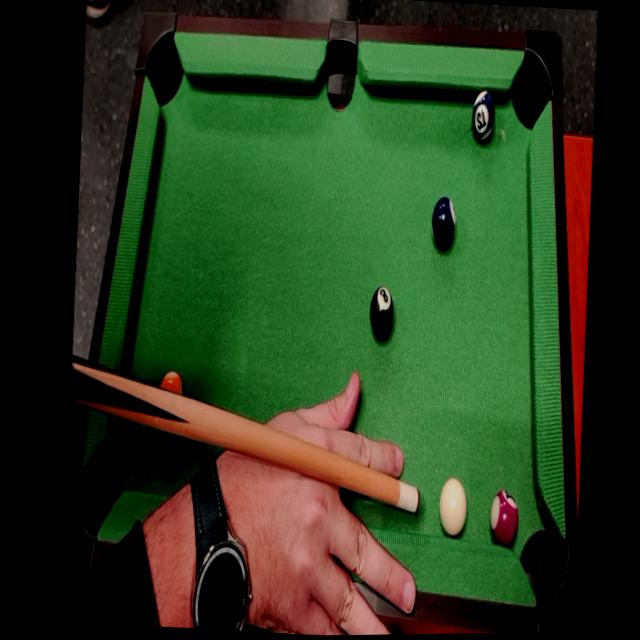cue ball: (433, 475, 470, 545)
other: (484, 486, 522, 553), (467, 85, 501, 148), (365, 281, 396, 346), (426, 192, 458, 254), (157, 366, 184, 401)
